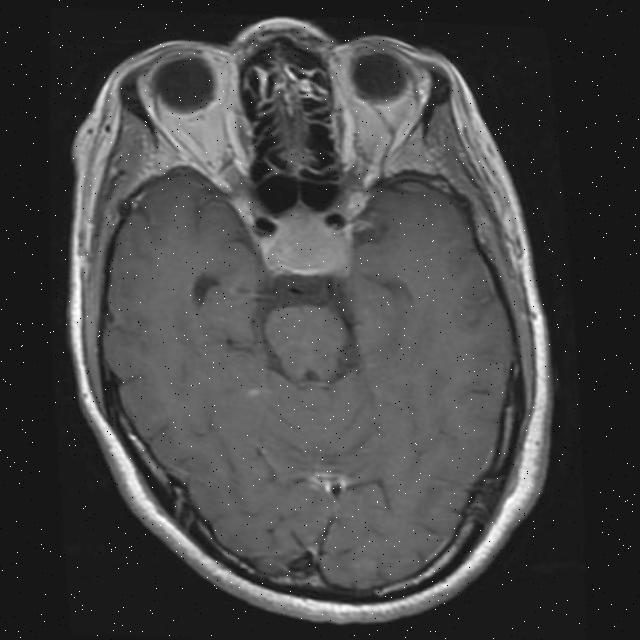Pituitary: (273, 197, 344, 276)
